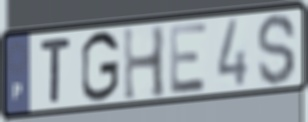4: (214, 16, 252, 91)
E: (167, 20, 209, 97)
G: (79, 29, 121, 104)
H: (121, 23, 168, 104)
S: (255, 11, 298, 89)
T: (38, 35, 73, 105)
